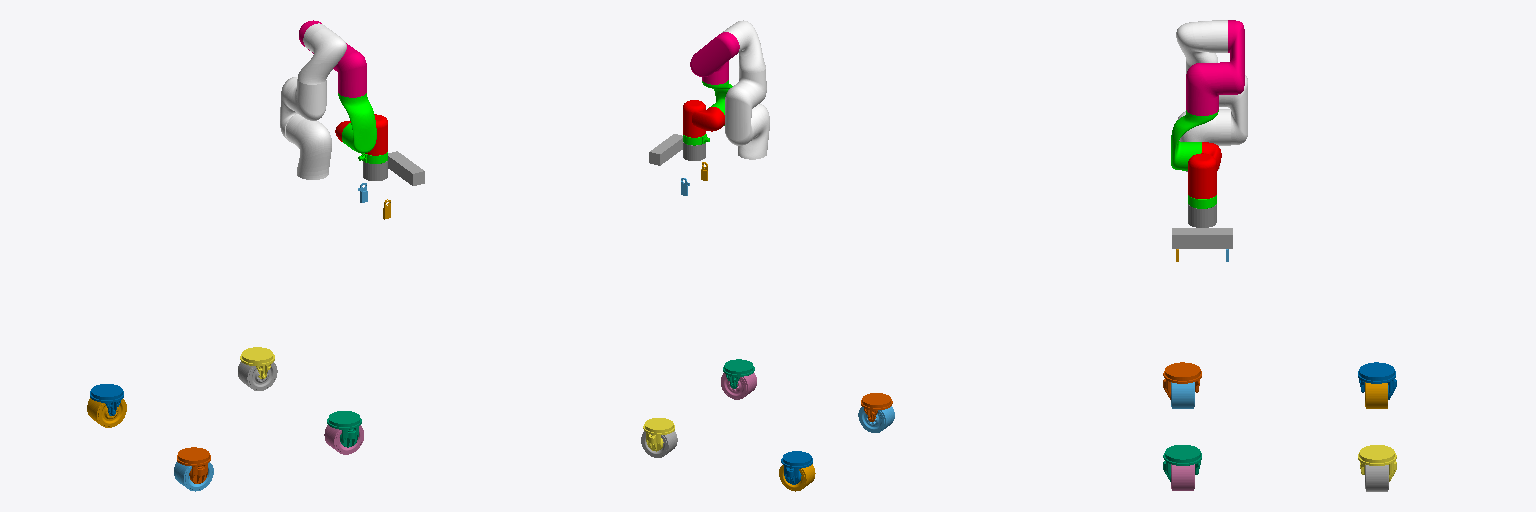
robot.urdf — demo_bot:
<?xml version="1.0" ?>
<robot name="demo_bot">
  <link name="world"/>

  <link name="Chassis_1">
    <visual name="Chassis_1_visual">
      <origin xyz="0 0 0" rpy="0 0 0"/>
      <geometry>
        <mesh filename="package://base_urdf/meshes/Chassis_1.stl"/>
      </geometry>
      <material name="Chassis_1-material">
        <color rgba="0 1 0 1"/>
      </material>
    </visual>
    <collision name="Chassis_1_collision">
      <origin xyz="0 0 0" rpy="0 0 0"/>
      <geometry>
        <mesh filename="package://base_urdf/meshes/collision/Chassis_1.stl"/>
      </geometry>
    </collision>
    <inertial>
      <mass value="15.0"/>
      <origin xyz="0.125 0.198 0.4" rpy="0 0 0"/>
      <inertia ixx="0.5" ixy="0.0" ixz="0.0" iyy="0.5" iyz="0.0" izz="0.5"/>
    </inertial>
  </link>

  <link name="arm_shoulder241_1">
    <visual>
      <geometry><mesh filename="package://base_urdf/meshes/arm_shoulder241_1.stl"/></geometry>
      <material name="white"><color rgba="1 1 1 1"/></material>
    </visual>
    <collision>
      <geometry><mesh filename="package://base_urdf/meshes/arm_shoulder241_1.stl"/></geometry>
    </collision>
    <inertial>
      <origin xyz="0.00022 0.02951 -0.0124" rpy="0 0 0"/>
      <mass value="2.382"/>
      <inertia ixx="0.005856" ixy="-1.79e-05" ixz="3.55e-06" iyy="0.005031" iyz="0.00149" izz="0.003536"/>
    </inertial>
  </link>

  <link name="arm_elbow_4_1">
    <visual>
      <geometry><mesh filename="package://base_urdf/meshes/arm_elbow_4_1.stl"/></geometry>
      <material name="white"><color rgba="1 1 1 1"/></material>
    </visual>
    <collision>
      <geometry><mesh filename="package://base_urdf/meshes/arm_elbow_4_1.stl"/></geometry>
    </collision>
    <inertial>
      <origin xyz="0.03853 -0.0906 0.0" rpy="0 0 0"/>
      <mass value="2.269"/>
      <inertia ixx="0.01572" ixy="0.003611" ixz="2.3e-06" iyy="0.00443" iyz="2.5e-06" izz="0.01532"/>
    </inertial>
  </link>

  <link name="elbow2_p4_1">
    <visual>
      <geometry><mesh filename="package://base_urdf/meshes/elbow2_p4_1.stl"/></geometry>
      <material name="red_ish"><color rgba="1 0 0.5 1"/></material>
    </visual>
    <collision>
      <geometry><mesh filename="package://base_urdf/meshes/elbow2_p4_1.stl"/></geometry>
    </collision>
    <inertial>
      <origin xyz="0.07048 0.04217 -0.00017" rpy="0 0 0"/>
      <mass value="1.875"/>
      <inertia ixx="0.004641" ixy="0.001595" ixz="1.1e-06" iyy="0.004625" iyz="-3.6e-06" izz="0.007501"/>
    </inertial>
  </link>

  <link name="wrist_1_p4_1">
    <visual>
      <geometry><mesh filename="package://base_urdf/meshes/wrist_1_p4_1.stl"/></geometry>
      <material name="green"><color rgba="0 1 0 1"/></material>
    </visual>
    <collision>
      <geometry><mesh filename="package://base_urdf/meshes/wrist_1_p4_1.stl"/></geometry>
    </collision>
    <inertial>
      <origin xyz="-0.00022 0.02951 -0.0124" rpy="0 0 0"/>
      <mass value="1.313"/>
      <inertia ixx="0.003905" ixy="5.04e-06" ixz="-4.2e-07" iyy="0.003794" iyz="0.000101" izz="0.001155"/>
    </inertial>
  </link>

  <link name="wrist_2_p4_1">
    <visual>
      <geometry><mesh filename="package://base_urdf/meshes/wrist_2_p4_1.stl"/></geometry>
      <material name="red"><color rgba="1 0 0 1"/></material>
    </visual>
    <collision>
      <geometry><mesh filename="package://base_urdf/meshes/wrist_2_p4_1.stl"/></geometry>
    </collision>
    <inertial>
      <origin xyz="0.06341 0.01024 0.00019" rpy="0 0 0"/>
      <mass value="1.338"/>
      <inertia ixx="0.001363" ixy="0.000236" ixz="-1.6e-07" iyy="0.002623" iyz="3.6e-07" izz="0.002692"/>
    </inertial>
  </link>

  <link name="end_effector_p4_1">
    <visual>
      <geometry><mesh filename="package://base_urdf/meshes/end_effector_p4_1.stl"/></geometry>
      <material name="green"><color rgba="0 1 0 1"/></material>
    </visual>
    <collision>
      <geometry><mesh filename="package://base_urdf/meshes/end_effector_p4_1.stl"/></geometry>
    </collision>
    <inertial>
      <origin xyz="0.0 0.0 -0.00643" rpy="0 0 0"/>
      <mass value="0.17"/>
      <inertia ixx="0.0001" ixy="0.0" ixz="0.0" iyy="0.0001" iyz="0.0" izz="0.0001"/>
    </inertial>
  </link>

  <!-- UFACTORY 6-axis F/T sensor (incl. mounting flange): 55 mm tall, same 75 mm diameter as the flange -->
  <link name="force_sensor_link">
    <visual>
      <origin xyz="0 0 0" rpy="0 0 0"/>
      <geometry><cylinder radius="0.0375" length="0.055"/></geometry>
      <material name="grey"><color rgba="0.6 0.6 0.6 1"/></material>
    </visual>
    <collision>
      <origin xyz="0 0 0" rpy="0 0 0"/>
      <geometry><cylinder radius="0.0375" length="0.055"/></geometry>
    </collision>
    <inertial>
      <origin xyz="0 0 0" rpy="0 0 0"/>
      <mass value="0.6"/>
      <inertia ixx="0.000362" ixy="0.0" ixz="0.0" iyy="0.000362" iyz="0.0" izz="0.000422"/>
    </inertial>
  </link>

  <link name="gripper_v43_1">
    <visual>
      <geometry><mesh filename="package://base_urdf/meshes/gripper_v43_1.stl"/></geometry>
    </visual>
    <collision>
      <geometry><mesh filename="package://base_urdf/meshes/gripper_v43_1.stl"/></geometry>
    </collision>
    <!-- Extra sideways clearance: 10 cm slab on the link's -x side (= world +y, "left" when EE points down) -->
    <collision>
      <origin xyz="-0.131 0 -0.03725" rpy="0 0 0"/>
      <geometry><box size="0.10 0.075 0.0745"/></geometry>
    </collision>
    <inertial>
      <mass value="0.5"/>
      <origin xyz="-0.133 -0.007 0.33" rpy="0 0 0"/>
      <inertia ixx="4.73e-05" iyy="5.61e-05" izz="8.89e-06" ixy="0" ixz="0" iyz="0"/>
    </inertial>
  </link>

  <link name="camera_link">
    <visual>
      <geometry>
        <box size="0.16 0.04 0.04"/> 
      </geometry>
      <material name="Silver">
        <color rgba="0.7 0.7 0.7 1.0"/>
      </material>
    </visual>
    <collision>
      <geometry>
        <box size="0.17 0.05 0.05"/>
      </geometry>
    </collision>
  </link>

  <link name="cube_link">
    <!-- <visual>
      <geometry>
        <box size="0.03320 1 0.5"/>
      </geometry>
      <material name="green"><color rgba="0 1 0 1"/></material>
    </visual> -->
    <!-- <visual>
      <geometry>
        <box size="0.0001 0.0001 0.0001"/>
      </geometry>
      <material name="green"><color rgba="0 1 0 1"/></material>
    </visual> -->
    <collision>
      <geometry>
        <box size="0.025 0.35 0.5"/>
      </geometry>
    </collision>
  </link>
  <link name="wellplate_holder_link">
    <!-- <visual>
      <geometry>
        <box size="0.03320 1 0.5"/>
      </geometry>
      <material name="green"><color rgba="0 1 0 1"/></material>
    </visual> -->
    <!-- <visual>
      <geometry>
        <box size="0.0001 0.0001 0.0001"/>
      </geometry>
      <material name="green"><color rgba="0 1 0 1"/></material>
    </visual> -->
    <collision>
      <geometry>
        <box size="0.32 0.65 0.025"/>
      </geometry>
    </collision>
  </link>
<!--   
  <link name="gripper_wire_link">
    <collision>
      <geometry>
        <box size="0.07 0.15 0.05"/>
      </geometry>
    </collision>
  </link> -->
  <link name="wellplate_link">
    <!-- <visual>
      <geometry>
        <box size="0.12771 0.01410 0.08543"/>
      </geometry>
      <material name="green"><color rgba="0 1 0 1"/></material>
    </visual> -->
    <collision>
      <geometry>
        <box size="0.004 0.01410 0.08543"/>
      </geometry>
    </collision>
  </link>

  <link name="base_top_link">
    <!-- <visual>
      <geometry>
        <box size="0.01410 0.12771 0.12"/>
      </geometry>
      <material name="green"><color rgba="0 1 0 1"/></material>
    </visual> -->
    <collision>
      <geometry>
        <box size="0.01410 0.12771 0.08543"/>
      </geometry>
    </collision>
  </link>

  <link name="cube_angle_link">
    <!-- <visual>
      <geometry>
        <box size="0.03320 1 0.5"/>
      </geometry>
      <material name="green"><color rgba="0 1 0 1"/></material>
    </visual> -->
    <!-- <visual>
      <geometry>
        <box size="0.0001 0.0001 0.0001"/>
      </geometry>
      <material name="green"><color rgba="0 1 0 1"/></material>
    </visual> -->
    <collision>
      <geometry>
        <box size="0.05 0.35 0.8"/>
      </geometry>
    </collision>
  </link>




  <link name="Finger_left_2">
    <visual><geometry><mesh filename="package://base_urdf/meshes/Finger_left_2.stl"/></geometry></visual>
    <collision><geometry><mesh filename="package://base_urdf/meshes/Finger_left_2.stl" scale="1 1.5 1"/></geometry></collision>
    <inertial><mass value="0.1"/><inertia ixx="0.0001" iyy="0.0001" izz="0.0001" ixy="0" ixz="0" iyz="0"/></inertial>
  </link>
  <link name="Finger_right_2">
    <visual><geometry><mesh filename="package://base_urdf/meshes/Finger_right_2.stl"/></geometry></visual>
    <collision><geometry><mesh filename="package://base_urdf/meshes/Finger_right_2.stl" scale="1 1.5 1"/></geometry></collision>
    <inertial><mass value="0.1"/><inertia ixx="0.0001" iyy="0.0001" izz="0.0001" ixy="0" ixz="0" iyz="0"/></inertial>
  </link>

  <link name="Az_Front_Left_1">
    <visual><geometry><mesh filename="package://base_urdf/meshes/Az_Front_Left_1.stl"/></geometry></visual>
    <collision><geometry><mesh filename="package://base_urdf/meshes/collision/Az_Front_Left_1.stl"/></geometry></collision>
    <inertial><mass value="0.5"/><inertia ixx="0.01" iyy="0.01" izz="0.01" ixy="0" ixz="0" iyz="0"/></inertial>
  </link>
  <link name="Az_Front_right_1">
    <visual><geometry><mesh filename="package://base_urdf/meshes/Az_Front_right_1.stl"/></geometry></visual>
    <collision><geometry><mesh filename="package://base_urdf/meshes/collision/Az_Front_right_1.stl"/></geometry></collision>
    <inertial><mass value="0.5"/><inertia ixx="0.01" iyy="0.01" izz="0.01" ixy="0" ixz="0" iyz="0"/></inertial>
  </link>
  <link name="Az_Back_Right_1">
    <visual><geometry><mesh filename="package://base_urdf/meshes/Az_Back_Right_1.stl"/></geometry></visual>
    <collision><geometry><mesh filename="package://base_urdf/meshes/collision/Az_Back_Right_1.stl"/></geometry></collision>
    <inertial><mass value="0.5"/><inertia ixx="0.01" iyy="0.01" izz="0.01" ixy="0" ixz="0" iyz="0"/></inertial>
  </link>
  <link name="Az_Back_left_1">
    <visual><geometry><mesh filename="package://base_urdf/meshes/Az_Back_left_1.stl"/></geometry></visual>
    <collision><geometry><mesh filename="package://base_urdf/meshes/collision/Az_Back_left_1.stl"/></geometry></collision>
    <inertial><mass value="0.5"/><inertia ixx="0.01" iyy="0.01" izz="0.01" ixy="0" ixz="0" iyz="0"/></inertial>
  </link>

  <link name="Wheel_Front_Left_1">
    <visual><geometry><mesh filename="package://base_urdf/meshes/Wheel_Front_Left_1.stl"/></geometry></visual>
    <collision><geometry><mesh filename="package://base_urdf/meshes/collision/Wheel_Front_Left_1.stl"/></geometry></collision>
    <inertial><mass value="1.0"/><inertia ixx="0.02" iyy="0.02" izz="0.02" ixy="0" ixz="0" iyz="0"/></inertial>
  </link>
  <link name="Wheel_Front_Right_1">
    <visual><geometry><mesh filename="package://base_urdf/meshes/Wheel_Front_Right_1.stl"/></geometry></visual>
    <collision><geometry><mesh filename="package://base_urdf/meshes/collision/Wheel_Front_Right_1.stl"/></geometry></collision>
    <inertial><mass value="1.0"/><inertia ixx="0.02" iyy="0.02" izz="0.02" ixy="0" ixz="0" iyz="0"/></inertial>
  </link>
  <link name="Wheel_Back_Right_1">
    <visual><geometry><mesh filename="package://base_urdf/meshes/Wheel_Back_Right_1.stl"/></geometry></visual>
    <collision><geometry><mesh filename="package://base_urdf/meshes/collision/Wheel_Back_Right_1.stl"/></geometry></collision>
    <inertial><mass value="1.0"/><inertia ixx="0.02" iyy="0.02" izz="0.02" ixy="0" ixz="0" iyz="0"/></inertial>
  </link>
  <link name="Wheel_Back_Left_1">
    <visual><geometry><mesh filename="package://base_urdf/meshes/Wheel_Back_Left_1.stl"/></geometry></visual>
    <collision><geometry><mesh filename="package://base_urdf/meshes/collision/Wheel_Back_Left_1.stl"/></geometry></collision>
    <inertial><mass value="1.0"/><inertia ixx="0.02" iyy="0.02" izz="0.02" ixy="0" ixz="0" iyz="0"/></inertial>
  </link>

  <joint name="world_to_robot" type="fixed">
    <parent link="world"/>
    <child link="Chassis_1"/>
    <origin xyz="0 0 0.893" rpy="0 3.14159261 0"/>
  </joint>

  <joint name="joint1" type="revolute">
      <origin xyz="0 0 0" rpy="-3.14159261 0 3.13783310"/>
      <parent link="Chassis_1"/>
      <child link="arm_shoulder241_1"/>
      <axis xyz="0 0 1"/>
      <limit effort="50.0" velocity="3.14" lower="-6.2831853" upper="6.2831853"/>
  </joint>

  <joint name="joint2" type="revolute">
      <origin xyz="-0.00320691 0.077 0.11500004" rpy="1.5670368 -1.5707963 0"/>
      <parent link="arm_shoulder241_1"/>
      <child link="arm_elbow_4_1"/>
      <axis xyz="0 0 -1"/>
      <limit effort="50.0" velocity="3.14" lower="-2.059" upper="2.0944"/>
  </joint>

  <joint name="joint3" type="revolute">
      <origin xyz="0.28467 -0.05322 0.00817" rpy="0 0 0"/>
      <parent link="arm_elbow_4_1"/>
      <child link="elbow2_p4_1"/>
      <axis xyz="0 0 -1"/>
      <limit effort="32.0" velocity="3.14" lower="-3.927" upper="0.19198"/>
  </joint>

  <joint name="joint4" type="revolute">
      <origin xyz="-0.16933092 -0.08577945 0.06658" rpy="0 1.5707963 0"/>
      <parent link="elbow2_p4_1"/>
      <child link="wrist_1_p4_1"/>
      <axis xyz="0 0 -1"/>
      <limit effort="32.0" velocity="3.14" lower="-6.2831853" upper="6.2831853"/>
  </joint>

  <joint name="joint5" type="revolute">
      <origin xyz="1.23e-06 1.02e-06 -0.13555" rpy="-1.5707963 0 1.5707963"/>
      <parent link="wrist_1_p4_1"/>
      <child link="wrist_2_p4_1"/>
      <axis xyz="0 0 -1"/>
      <limit effort="32.0" velocity="3.14" lower="-1.69297" upper="3.14159261"/>
  </joint>

  <joint name="joint6" type="revolute">
      <origin xyz="-0.07700037 0.07099971 0" rpy="1.5707963 0 0"/>
      <parent link="wrist_2_p4_1"/>
      <child link="end_effector_p4_1"/>
      <axis xyz="0 0 -1"/>
      <limit effort="20.0" velocity="3.14" lower="-3.14159261" upper="3.14159261"/>
  </joint>

  <joint name="force_sensor_joint" type="fixed">
    <origin xyz="0 0 -0.0555" rpy="0 0 0"/>
    <parent link="end_effector_p4_1"/>
    <child link="force_sensor_link"/>
  </joint>

  <joint name="Fastened_1" type="fixed">
    <origin xyz="0 0 -0.083" rpy="0 0 1.5707963"/>  <!-- -0.028 flange + -0.055 force sensor -->
    <parent link="end_effector_p4_1"/>
    <child link="gripper_v43_1"/>
  </joint>

  <joint name="Slider_1" type="prismatic">
    <origin xyz="0.066 0.0007 -0.06" rpy="-1.5707963 0 1.623"/>
    <parent link="gripper_v43_1"/>
    <child link="Finger_left_2"/>
    <axis xyz="0 0 -1"/>
    <limit effort="1" velocity="1" lower="-0.1" upper="0.1"/>
  </joint>

  <joint name="Slider_2" type="prismatic">
    <origin xyz="-0.066 -0.001 -0.06" rpy="1.5707963 0 1.623"/>
    <parent link="gripper_v43_1"/>
    <child link="Finger_right_2"/>
    <axis xyz="0 0 -1"/>
    <limit effort="1" velocity="1" lower="-0.1" upper="0.1"/>
  </joint>

  <joint name="Revolute_5" type="revolute">
    <origin xyz="-0.078325 -0.04888 0.78425" rpy="-3.14159 0 3.14159"/>
    <parent link="Chassis_1"/>
    <child link="Az_Front_Left_1"/>
    <axis xyz="0 0 -1"/><limit effort="1" velocity="1" lower="-6.28" upper="6.28"/>
  </joint>
  <joint name="Revolute_6" type="revolute">
    <origin xyz="-0.078325 0.4585 0.7848" rpy="-3.14159 0 3.14159"/>
    <parent link="Chassis_1"/>
    <child link="Az_Front_right_1"/>
    <axis xyz="0 0 -1"/><limit effort="1" velocity="1" lower="-6.28" upper="6.28"/>
  </joint>
  <joint name="Revolute_7" type="revolute">
    <origin xyz="0.429 0.458 0.784" rpy="3.14159 0 0"/>
    <parent link="Chassis_1"/>
    <child link="Az_Back_Right_1"/>
    <axis xyz="0 0 -1"/><limit effort="1" velocity="1" lower="-6.28" upper="6.28"/>
  </joint>
  <joint name="Revolute_8" type="revolute">
    <origin xyz="0.429 -0.049 0.784" rpy="3.14159 0 0"/>
    <parent link="Chassis_1"/>
    <child link="Az_Back_left_1"/>3
    <axis xyz="0 0 -1"/><limit effort="1" velocity="1" lower="-6.28" upper="6.28"/>
  </joint>

  <joint name="Revolute_1" type="revolute">
    <parent link="Az_Front_Left_1"/><child link="Wheel_Front_Left_1"/>
    <origin xyz="0 0.0024 -0.057" rpy="-1.5707 0 0"/><axis xyz="0 0 -1"/><limit effort="1" velocity="1" lower="-6.28" upper="6.28"/>
  </joint>
  <joint name="Revolute_2" type="revolute">
    <parent link="Az_Front_right_1"/><child link="Wheel_Front_Right_1"/>
    <origin xyz="0 -0.0024 -0.057" rpy="1.5707 0 0"/><axis xyz="0 0 -1"/><limit effort="1" velocity="1" lower="-6.28" upper="6.28"/>
  </joint>
  <joint name="Revolute_3" type="revolute">
    <parent link="Az_Back_Right_1"/><child link="Wheel_Back_Right_1"/>
    <origin xyz="0 0.0024 -0.057" rpy="-1.5707 0 0"/><axis xyz="0 0 -1"/><limit effort="1" velocity="1" lower="-6.28" upper="6.28"/>
  </joint>
  <joint name="Revolute_4" type="revolute">
    <parent link="Az_Back_left_1"/><child link="Wheel_Back_Left_1"/>
    <origin xyz="0 -0.0024 -0.057" rpy="1.5707 0 0"/><axis xyz="0 0 -1"/><limit effort="1" velocity="1" lower="-6.28" upper="6.28"/>
  </joint>

  <joint name="camera_joint" type="fixed">
    <parent link="gripper_v43_1"/> <child link="camera_link"/>
    <origin xyz="0 0.10 0" rpy="0.0 0.0 0.0"/> 
  </joint>

  <joint name="cube_joint" type="fixed">
    <parent link="Chassis_1"/> <child link="cube_link"/>
    <origin xyz="0.16 0.2 -0.15" rpy="0.0 0.0 0.0"/> 
  </joint>

  <joint name="wellplate_joint" type="fixed">
    <parent link="Finger_left_2"/> <child link="wellplate_link"/>
    <origin xyz="0 0.08 0.075" rpy="0.0 0.0 0.0"/> 
  </joint>

  <joint name="base_top_joint" type="fixed">
    <parent link="Chassis_1"/> <child link="base_top_link"/>
    <origin xyz="-0.1 0.0 0.078" rpy="0.0 0.0 0.0"/> 
  </joint>

  <joint name="cube_angle_joint" type="fixed">
    <parent link="Chassis_1"/> <child link="cube_angle_link"/>
    <origin xyz="0.05 0.2 -0.65" rpy="0.0 0.523598776 0.0"/> 
  </joint>

  <joint name="wellplate_holder_joint" type="fixed">
    <parent link="Chassis_1"/> <child link="wellplate_holder_link"/>
    <origin xyz="0 +0.2 0.14" rpy="0.0 0 0.0"/> 
  </joint>
   <!-- <joint name="gripper_wire_joint" type="fixed">
    <parent link="camera_link"/> <child link="gripper_wire_link"/>
    <origin xyz="-0.12 -0.045 0" rpy="0.0 0 0.0"/> 
  </joint> -->

</robot>

--- Facts derived from the render (not from the file) ---
3 views of the same robot in one strip: view 1: azimuth 30°, elevation 25°; view 2: azimuth 150°, elevation 25°; view 3: azimuth 270°, elevation 25° (orthographic).
Model demo_bot with 26 links and 25 joints (14 revolute, 2 prismatic, 9 fixed), rooted at world, posed all joints at 0.
Visible links, largest first — view 1: arm_elbow_4_1, arm_shoulder241_1, wrist_1_p4_1, elbow2_p4_1, Az_Front_Left_1, Az_Back_left_1, camera_link, Wheel_Back_Right_1, Wheel_Front_Right_1, Az_Front_right_1, Az_Back_Right_1, wrist_2_p4_1 (+2 smaller); view 2: arm_elbow_4_1, elbow2_p4_1, wrist_2_p4_1, arm_shoulder241_1, Az_Back_Right_1, Az_Front_right_1, camera_link, Wheel_Back_Left_1, Wheel_Front_Left_1, Az_Front_Left_1, Az_Back_left_1; view 3: elbow2_p4_1, arm_elbow_4_1, wrist_2_p4_1, camera_link, wrist_1_p4_1, arm_shoulder241_1, Az_Back_Right_1, Az_Front_Left_1, Az_Back_left_1, Az_Front_right_1, Wheel_Front_Right_1, Wheel_Back_Left_1 (+3 smaller).
Link boxes in pixels (x1,y1,x2,y2): arm_elbow_4_1: [280, 23, 346, 142]; arm_shoulder241_1: [286, 114, 331, 179]; wrist_1_p4_1: [338, 93, 376, 153]; elbow2_p4_1: [299, 20, 366, 97]; Az_Front_Left_1: [327, 411, 361, 447]; Az_Back_left_1: [177, 447, 210, 483]; camera_link: [388, 151, 424, 185]; Wheel_Back_Right_1: [87, 398, 126, 427]; Wheel_Front_Right_1: [238, 362, 277, 390]; Az_Front_right_1: [240, 347, 274, 378]; Az_Back_Right_1: [90, 384, 123, 415]; wrist_2_p4_1: [335, 114, 387, 155]; arm_elbow_4_1: [722, 20, 766, 145]; elbow2_p4_1: [690, 32, 739, 84]; wrist_2_p4_1: [683, 100, 724, 137]; arm_shoulder241_1: [738, 104, 769, 159]; Az_Back_Right_1: [781, 451, 812, 484]; Az_Front_right_1: [643, 418, 674, 451]; camera_link: [649, 134, 682, 165]; Wheel_Back_Left_1: [858, 406, 894, 432]; Wheel_Front_Left_1: [721, 373, 756, 399]; Az_Front_Left_1: [723, 359, 754, 388]; Az_Back_left_1: [861, 393, 892, 421]; elbow2_p4_1: [1186, 20, 1244, 115]; arm_elbow_4_1: [1176, 20, 1247, 144]; wrist_2_p4_1: [1188, 142, 1221, 198]; camera_link: [1172, 228, 1232, 248]; wrist_1_p4_1: [1171, 110, 1218, 170]; arm_shoulder241_1: [1178, 109, 1230, 171]; Az_Back_Right_1: [1358, 362, 1396, 399]; Az_Front_Left_1: [1163, 445, 1201, 481]; Az_Back_left_1: [1163, 362, 1201, 399]; Az_Front_right_1: [1358, 445, 1396, 481]; Wheel_Front_Right_1: [1365, 465, 1388, 491]; Wheel_Back_Left_1: [1171, 382, 1194, 408].
Size in the robot's own frame: 0.8123 by 0.61 by 1.33 metres.
Meshes: 18 distinct files referenced, 16 mesh visuals loaded (16 binary STL); not drawn: 2 (reference not matched to a file when rendering).
